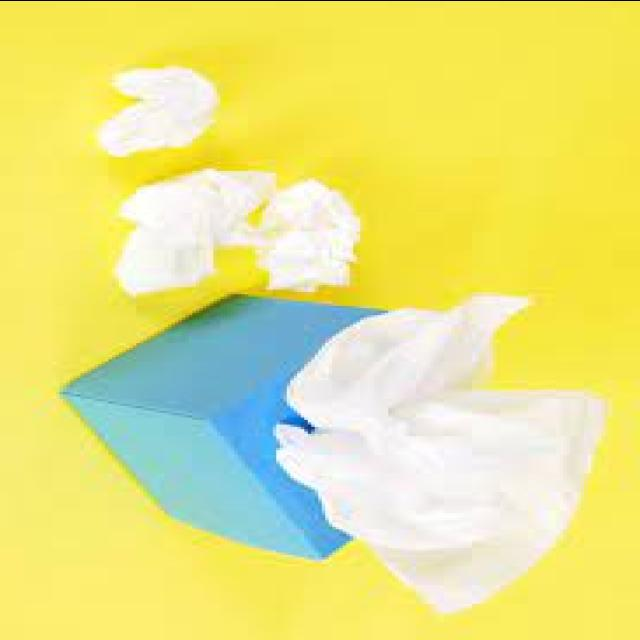tissue: (64, 295, 604, 611), (119, 169, 259, 294), (258, 180, 360, 289), (100, 66, 214, 155)
